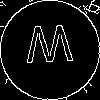W: (25, 25, 74, 72)
